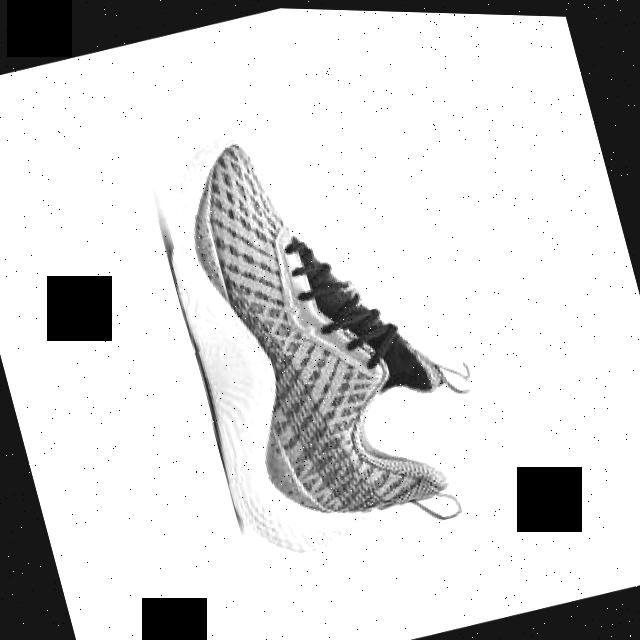shoe: (140, 86, 502, 570)
